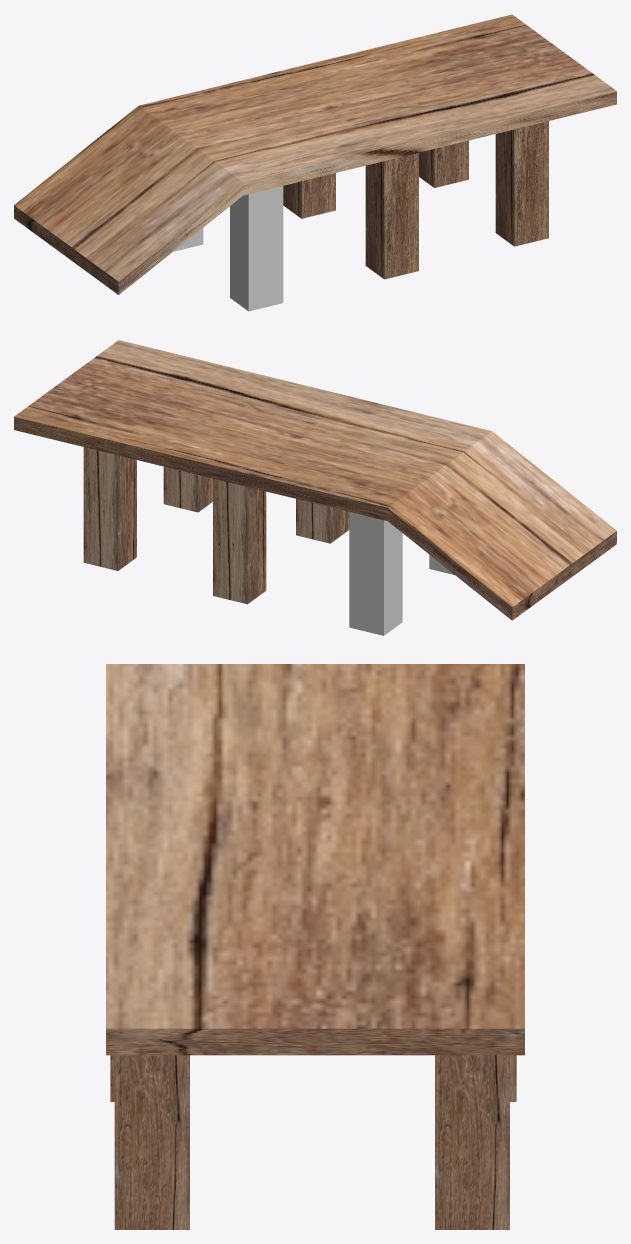
The model's file is molo.fbx.
The picture shows the model from 3 angles, top to bottom: view 1: azimuth 30°, elevation 25°; view 2: azimuth 150°, elevation 25°; view 3: azimuth 270°, elevation 25°; orthographic projection. The views are drawn at different scales.
Visible parts, largest first — view 1: Cube.012, Cube.009, Cube.011, Cube.003, Cube.008, Cube.010; view 2: Cube.012, Cube.010, Cube.008, Cube, Cube.009, Cube.011; view 3: Cube.012, Cube.011, Cube.008.
Boxes of the visible parts, x1,y1,x2,y2 form: Cube.012: [14, 14, 616, 294]; Cube.009: [365, 153, 418, 279]; Cube.011: [495, 121, 548, 246]; Cube.003: [230, 186, 283, 311]; Cube.008: [419, 140, 468, 187]; Cube.010: [283, 173, 335, 218]; Cube.012: [14, 340, 616, 620]; Cube.010: [213, 478, 266, 604]; Cube.008: [83, 447, 136, 570]; Cube: [349, 512, 402, 635]; Cube.009: [296, 499, 349, 543]; Cube.011: [163, 466, 212, 512]; Cube.012: [106, 664, 524, 1055]; Cube.011: [114, 1055, 189, 1229]; Cube.008: [435, 1055, 509, 1229].
Size of the model in its own units: 1649 by 420 by 600.
Materials: 3 (1 with a texture image).
